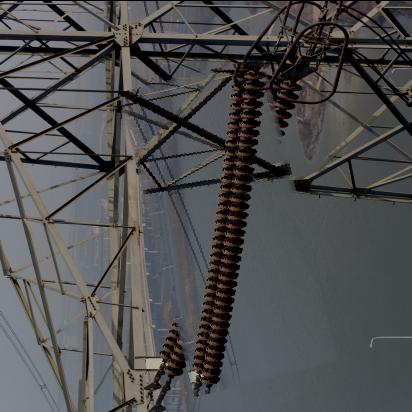insulator: (137, 64, 322, 391)
